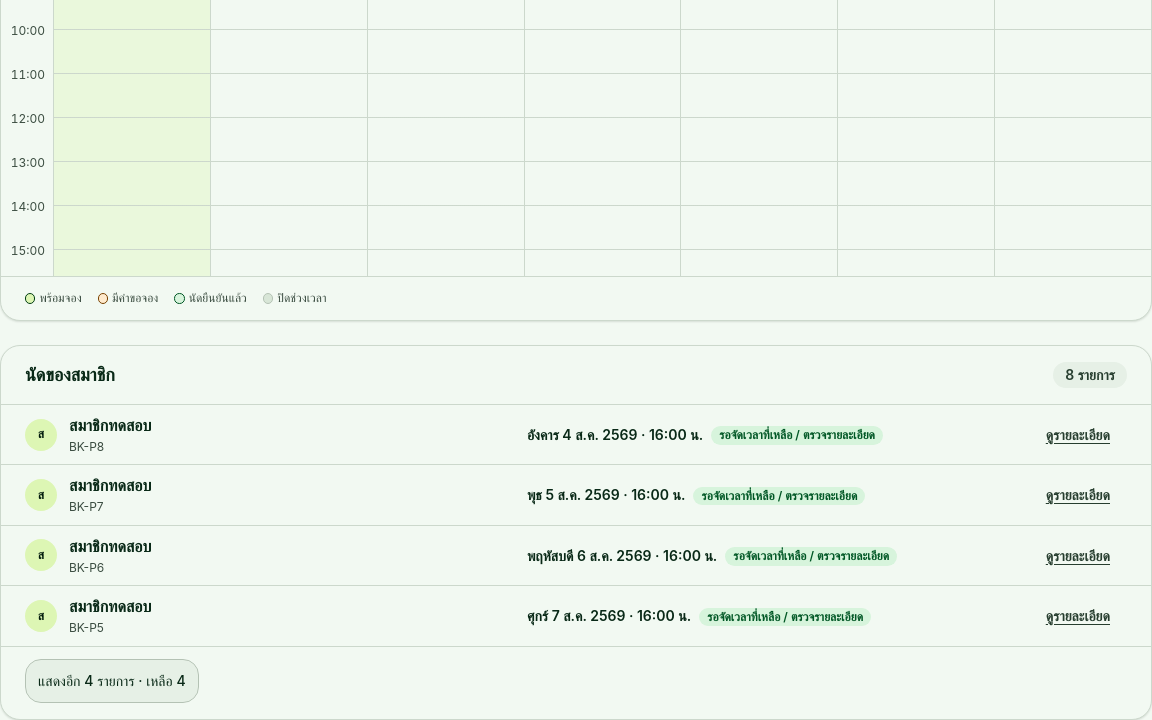
TrainerWorkbench › shows one page of appointments and appends the next page on request
(page scrolled)
Expected: the text "8 รายการ" is shown, [1053, 362, 1127, 388]
Expected: the number of elements with class "trainer-appointment-row" is 4, [1, 405, 1151, 465]; [1, 465, 1151, 526]; [1, 526, 1151, 586]; [1, 586, 1151, 647]
Click the button "แสดงอีก 4 รายการ · เหลือ 4".
click(112, 681)  # box [25, 659, 199, 703]
(page scrolled)
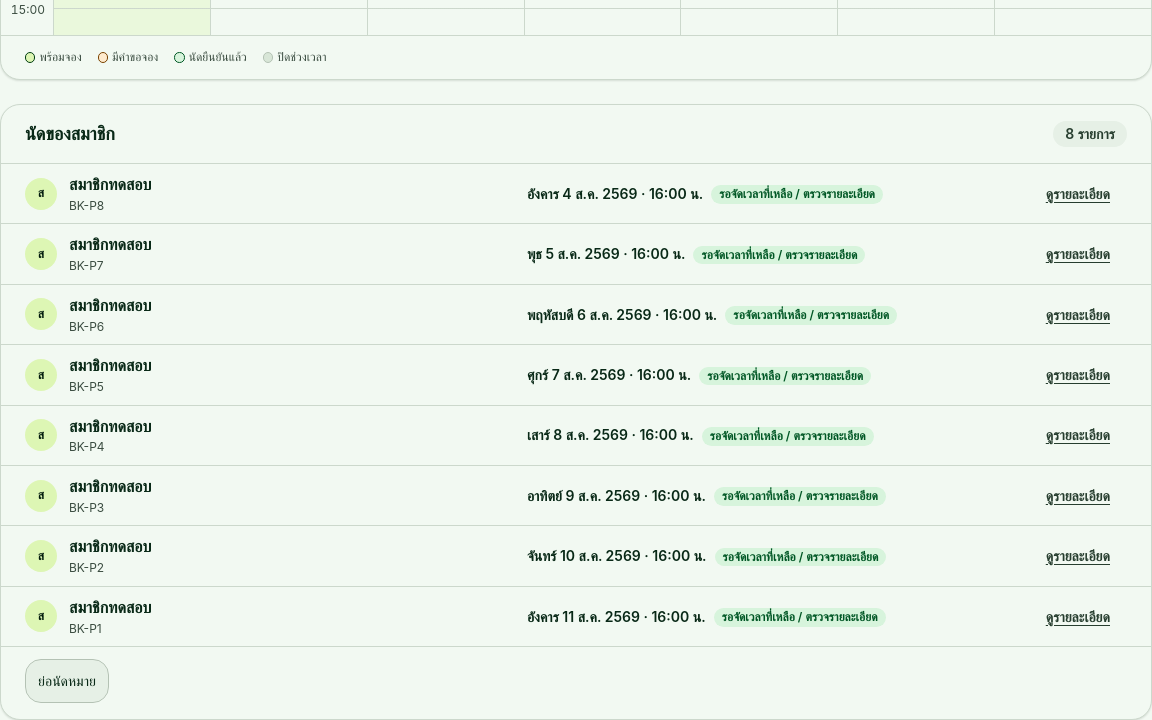
Expected: the number of elements with class "trainer-appointment-row" is 8
Expected: the button "ย่อนัดหมาย" is shown, [25, 659, 109, 703]
